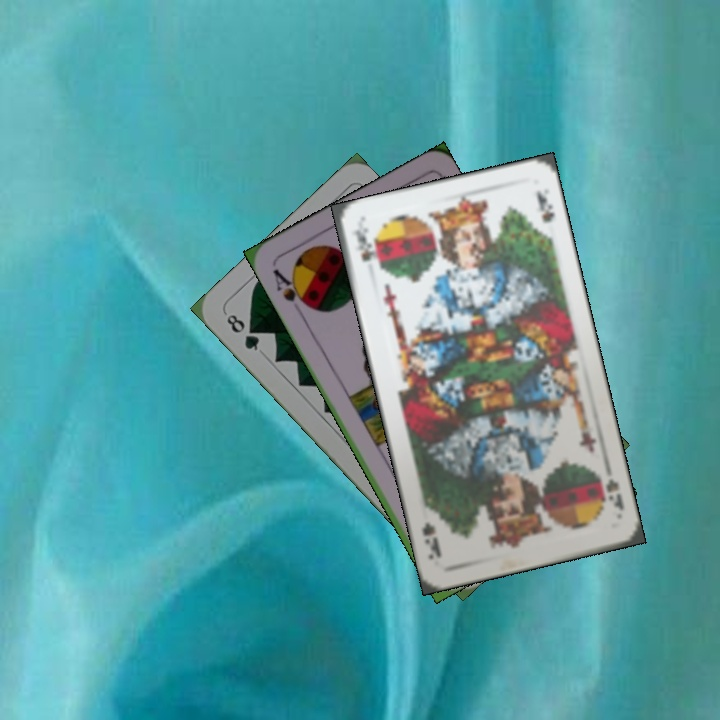G8: (222, 309, 263, 354)
SA: (268, 265, 313, 311)
SK: (348, 223, 377, 264), (602, 474, 627, 514)
